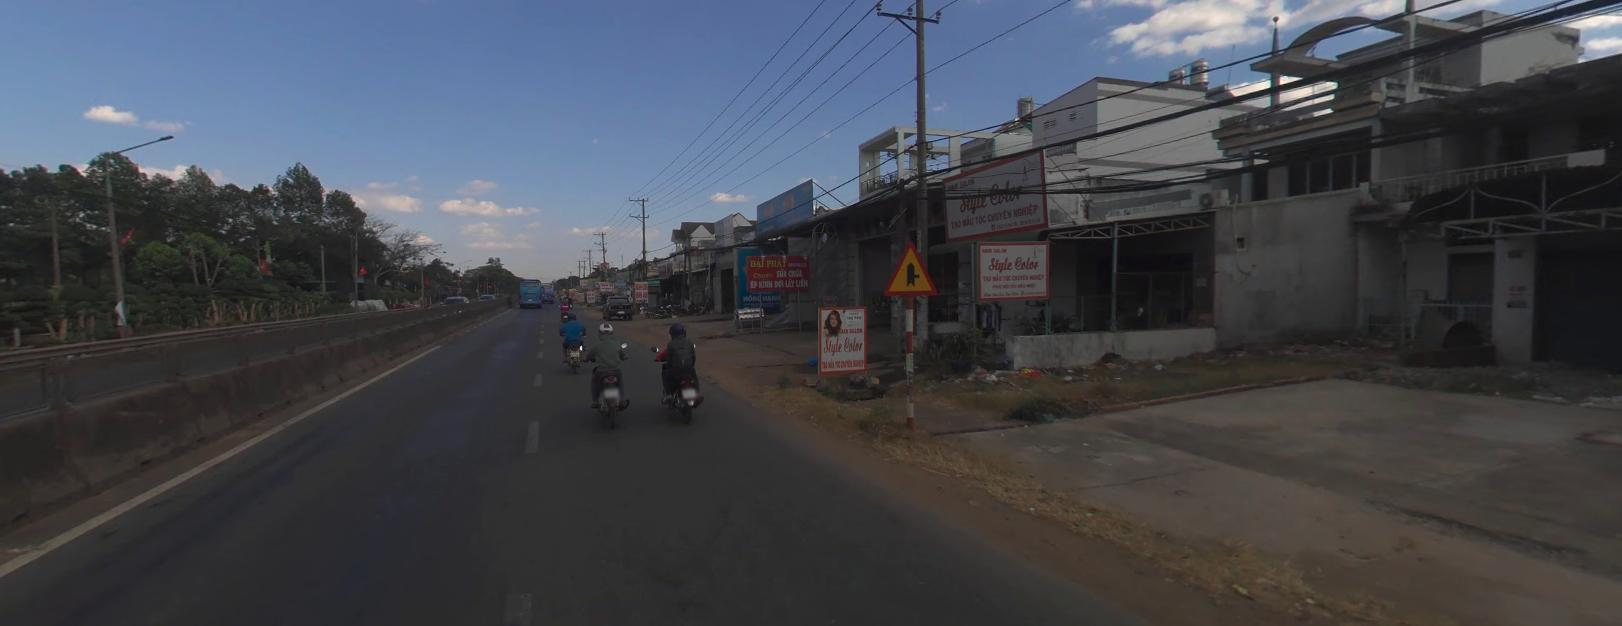Nguy hiem: (882, 238, 942, 294), (883, 239, 938, 293)
